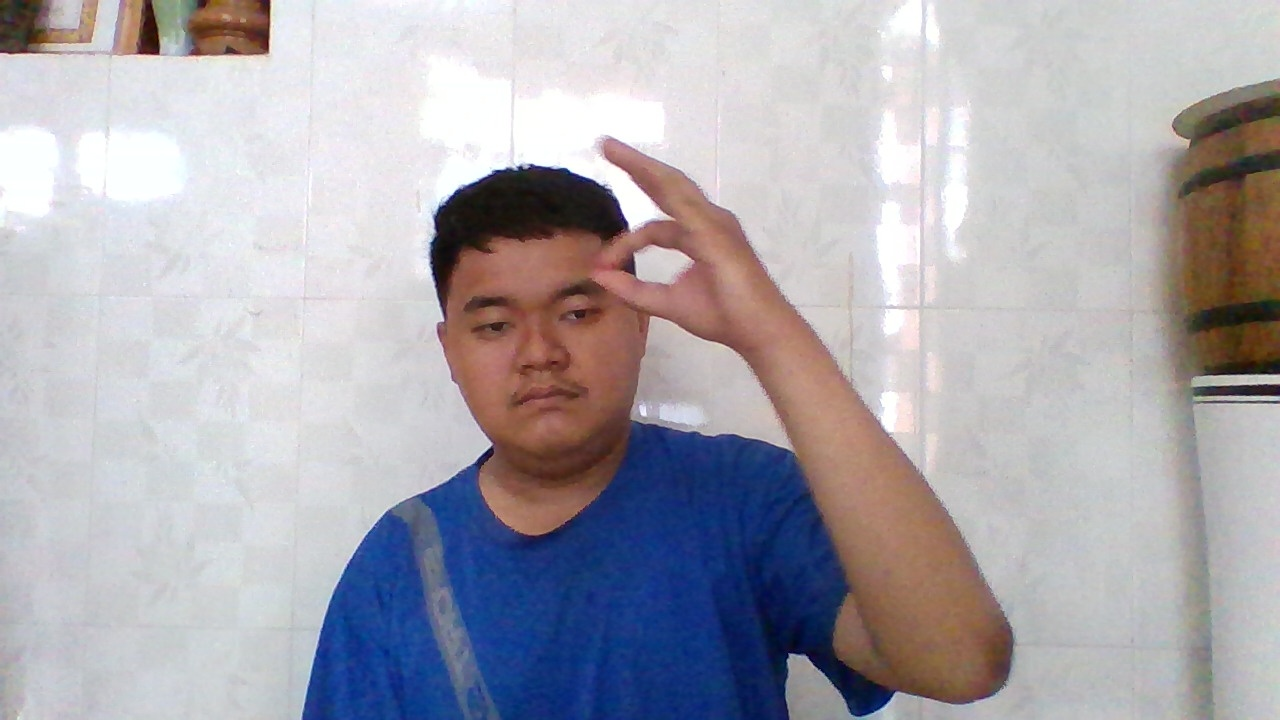T: (585, 129, 778, 358)
